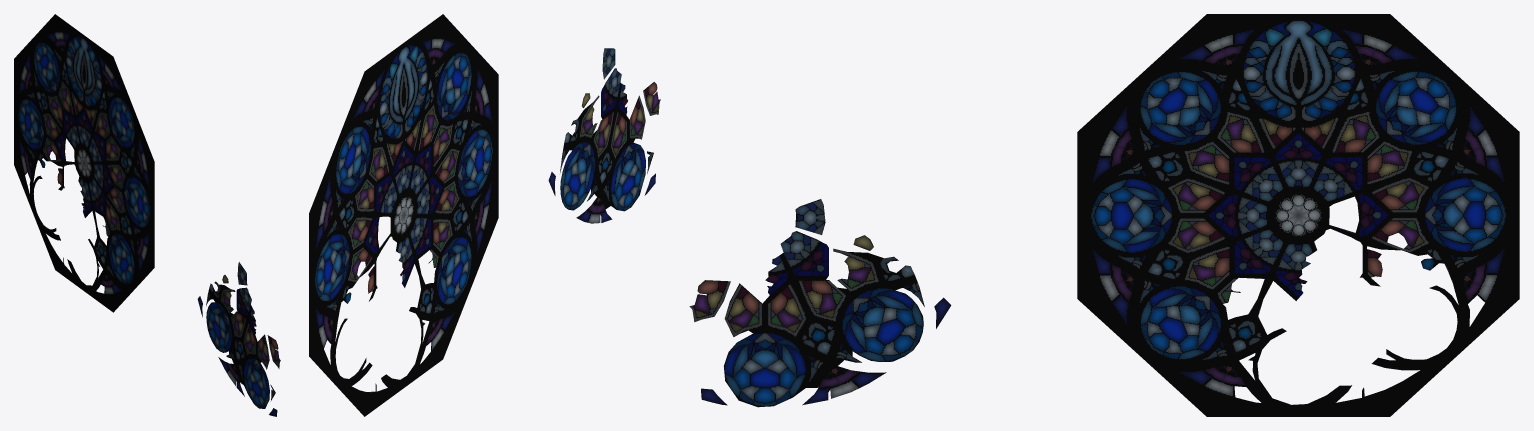
File: EnvMdrMD_Daiseidou_A_Glass.FBX
The picture shows the model from 3 angles, left to right: view 1: azimuth 30°, elevation 25°; view 2: azimuth 150°, elevation 25°; view 3: azimuth 270°, elevation 25°; orthographic projection. The views are drawn at different scales.
Parts seen in each view (by area): view 1: EnvMdrMD_Daiseidou_A_Glass, EnvMdrMD_Daiseidou_A_Glass_Broken; view 2: EnvMdrMD_Daiseidou_A_Glass, EnvMdrMD_Daiseidou_A_Glass_Broken; view 3: EnvMdrMD_Daiseidou_A_Glass, EnvMdrMD_Daiseidou_A_Glass_Broken.
Boxes of the visible parts, <box> form: EnvMdrMD_Daiseidou_A_Glass: <box>14,14,154,312</box>; EnvMdrMD_Daiseidou_A_Glass_Broken: <box>197,262,280,416</box>; EnvMdrMD_Daiseidou_A_Glass: <box>309,14,498,416</box>; EnvMdrMD_Daiseidou_A_Glass_Broken: <box>548,48,660,223</box>; EnvMdrMD_Daiseidou_A_Glass: <box>1077,14,1519,416</box>; EnvMdrMD_Daiseidou_A_Glass_Broken: <box>689,199,951,407</box>.
Bounding box in the file's own units: 12.28 × 986 × 1841.
1 material, 1 textured.
